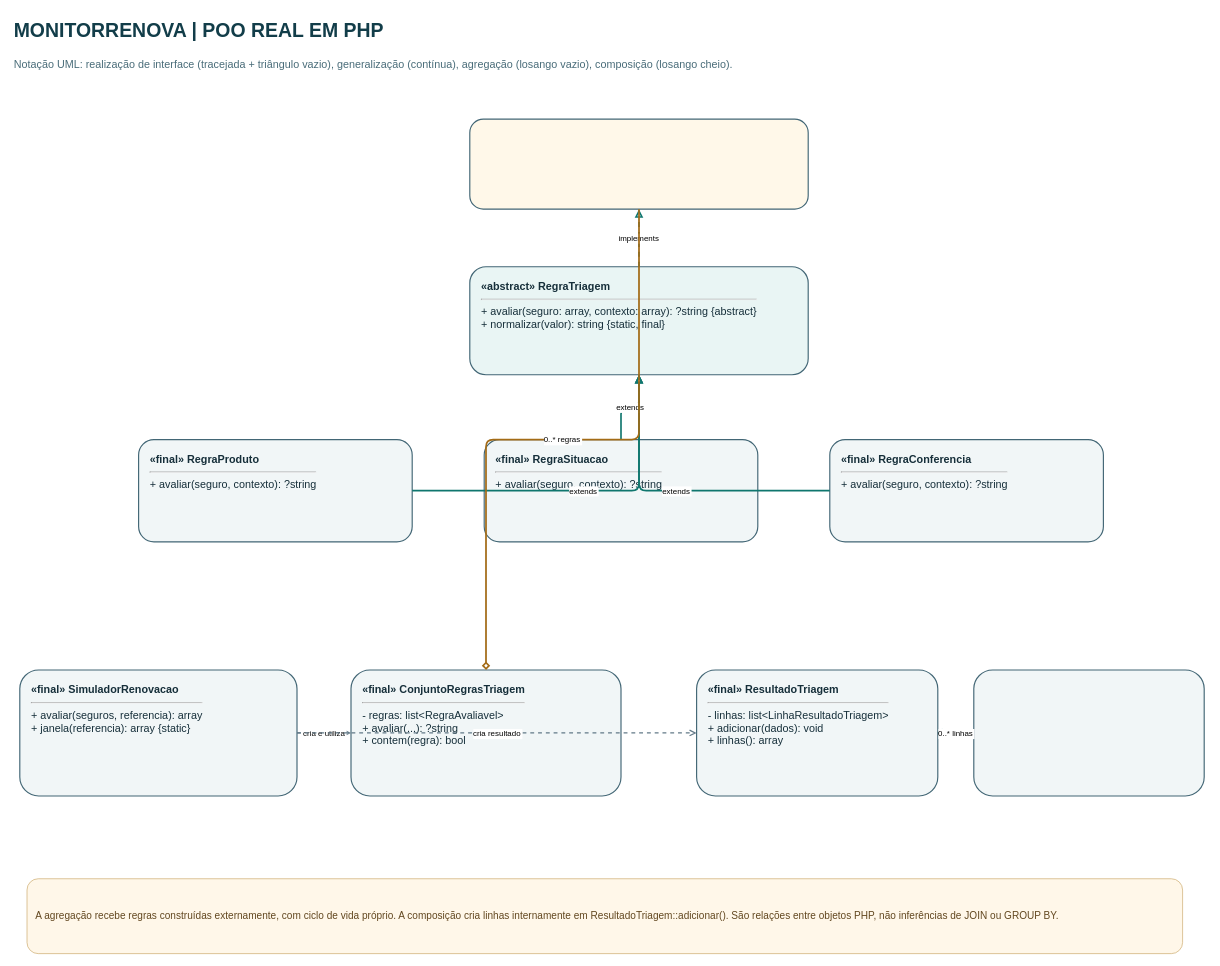
Image size: 1220x966. Some labels were removed from this diagram. The shapes that lost their labels are listed below. From the top down, each one's centre as x and y in pixels, then its label:
point (638, 163): «interface» RegraAvaliavel + avaliar(seguro: array, contexto: array): ?string
point (1088, 732): «final» LinhaResultadoTriagem - dados: array {readonly} + paraArray(): array
